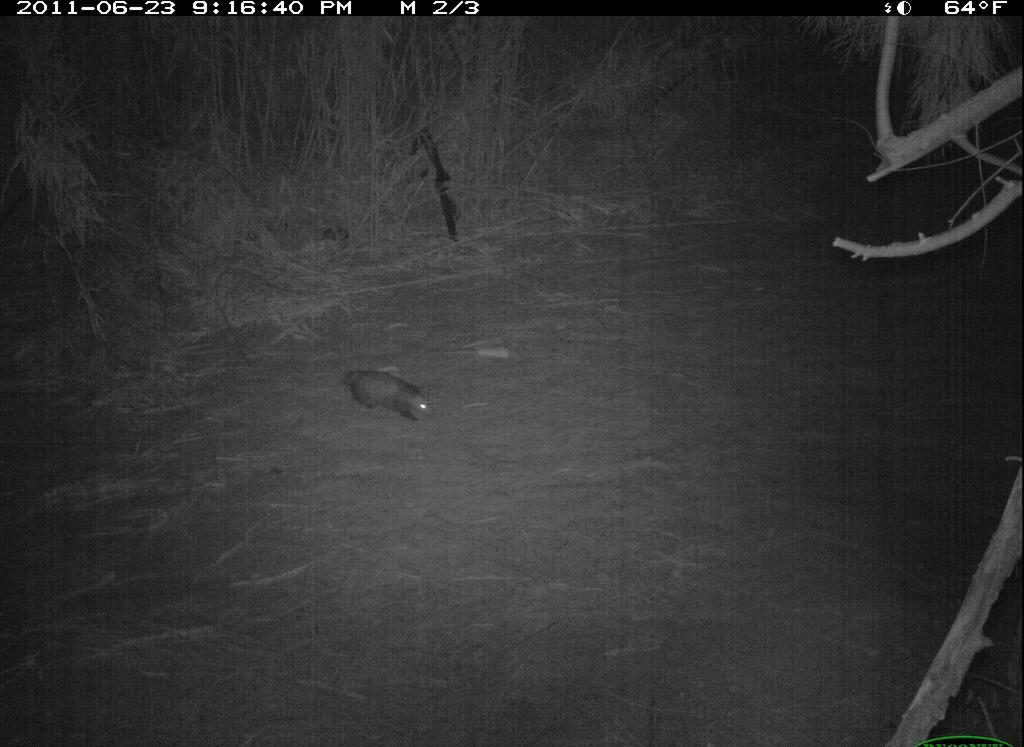opossum: (341, 361, 440, 436)
